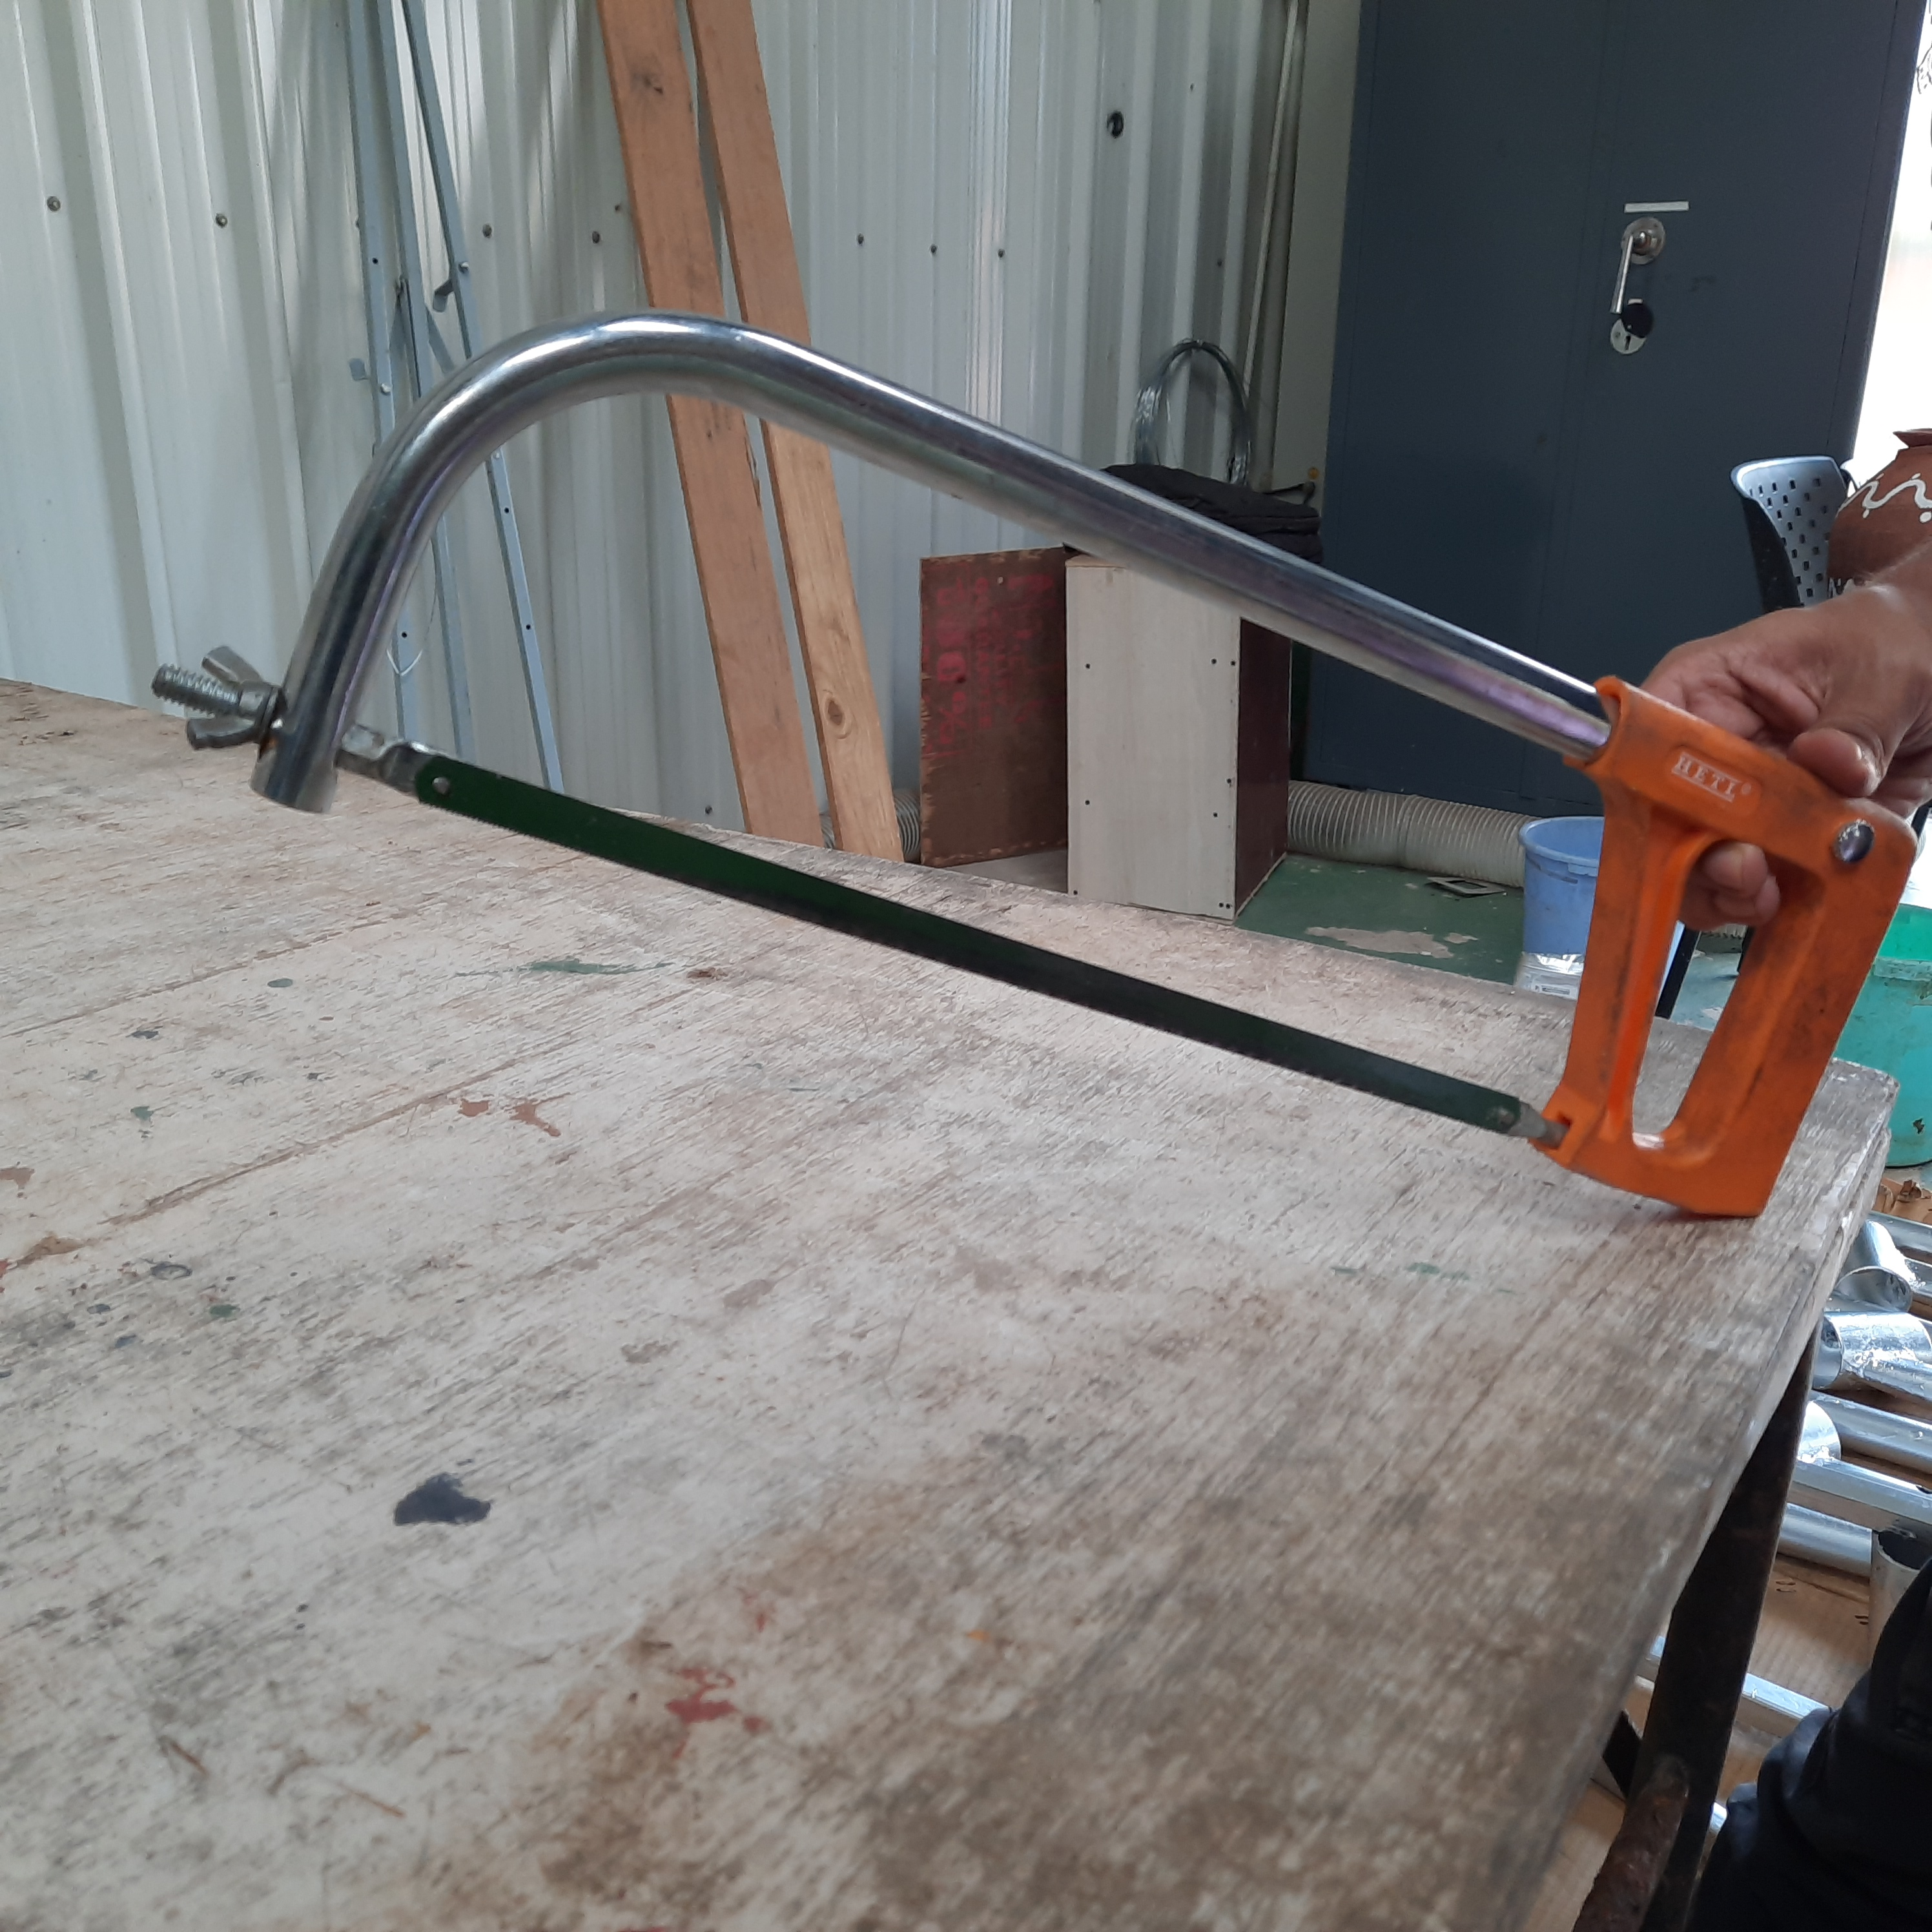Hexaframe: (106, 285, 1932, 1260)
